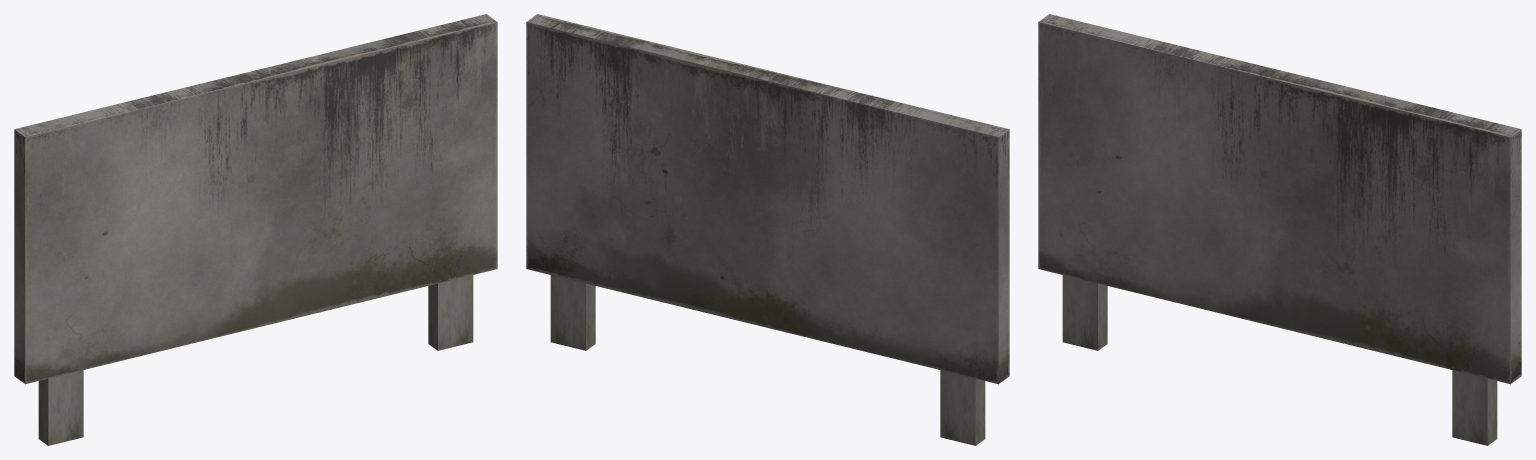
The model's file is fence_po2_A_lod2_web.glb.
3 views of the same model, side by side, from view 1: azimuth 30°, elevation 25°; view 2: azimuth 150°, elevation 25°; view 3: azimuth 330°, elevation 25° (orthographic).
Visible parts, largest first — view 1: FencePO2_A_lod2; view 2: FencePO2_A_lod2; view 3: FencePO2_A_lod2.
Part boxes in pixels (bbox=[...]): FencePO2_A_lod2: bbox=[14, 14, 497, 445]; FencePO2_A_lod2: bbox=[526, 14, 1009, 445]; FencePO2_A_lod2: bbox=[1038, 14, 1521, 445].
Size of the model in its own units: 4 by 2.55 by 0.1599.
1 material, 1 textured.
